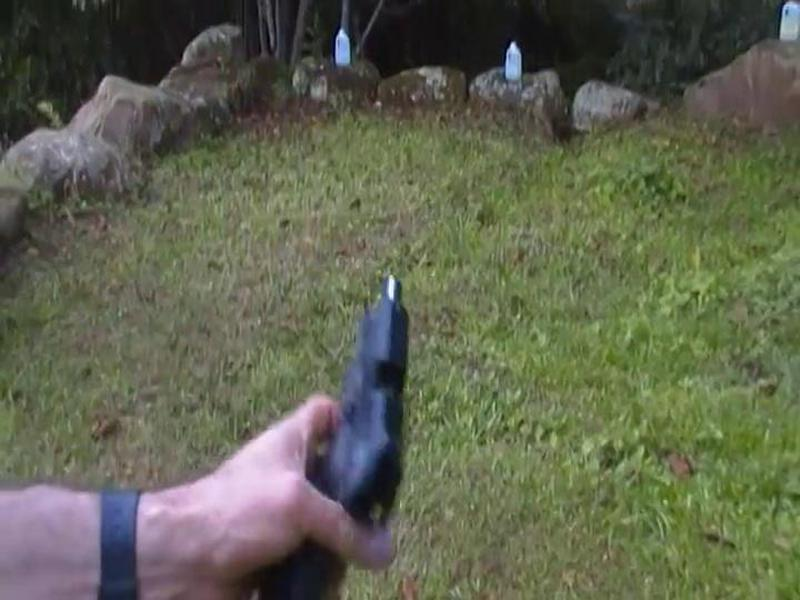Pistola: (244, 291, 410, 594)
